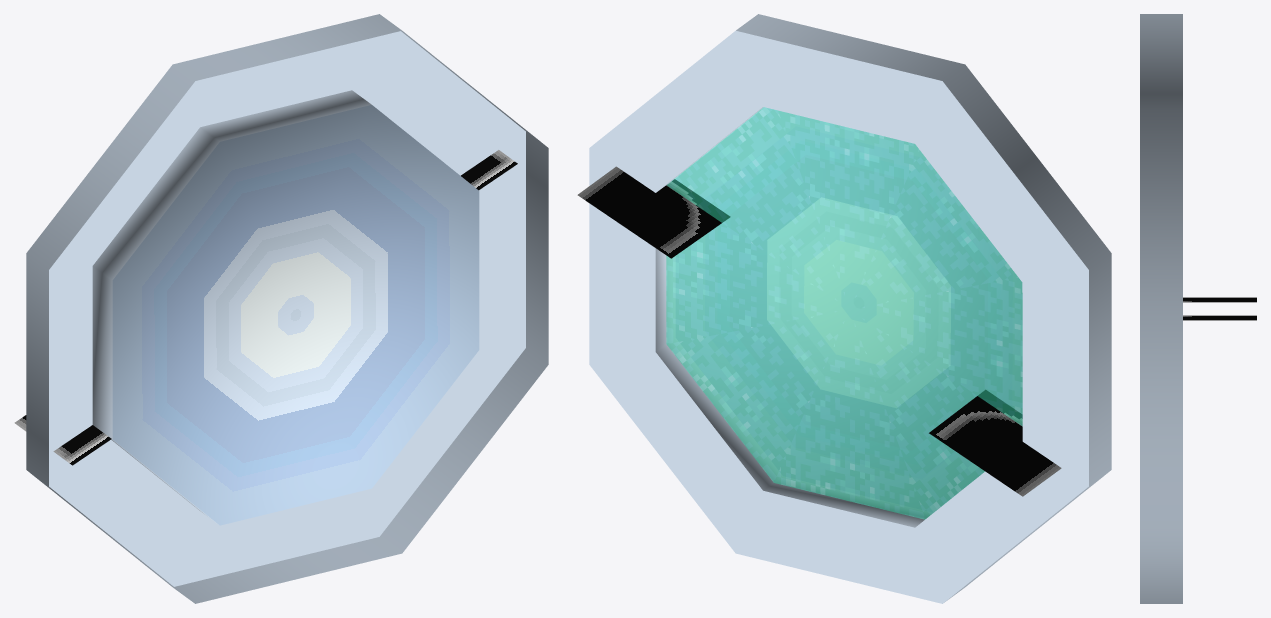
3 renders of one model, left to right at view 1: azimuth 30°, elevation 25°; view 2: azimuth 150°, elevation 25°; view 3: azimuth 270°, elevation 25°, orthographic. The views are drawn at different scales.
Visible parts, largest first — view 1: 3741kg_ot_00; view 2: 3741kg_ot_00; view 3: 3741kg_ot_00.
Part boxes in pixels (box(x1,y1,x2,y2)): 3741kg_ot_00: box(14, 14, 548, 603); 3741kg_ot_00: box(577, 14, 1111, 603); 3741kg_ot_00: box(1140, 14, 1256, 603).
Size of the model in its own units: 1.85 by 1.85 by 0.396.
Materials: 3 (3 with a texture image).
